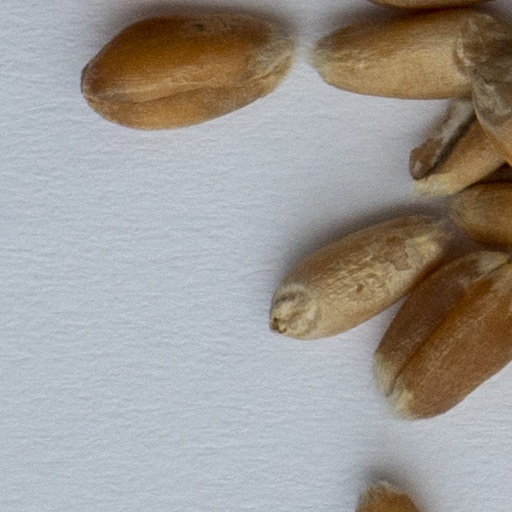Wheat-grain-damaged-poly: (447, 180, 511, 249)
